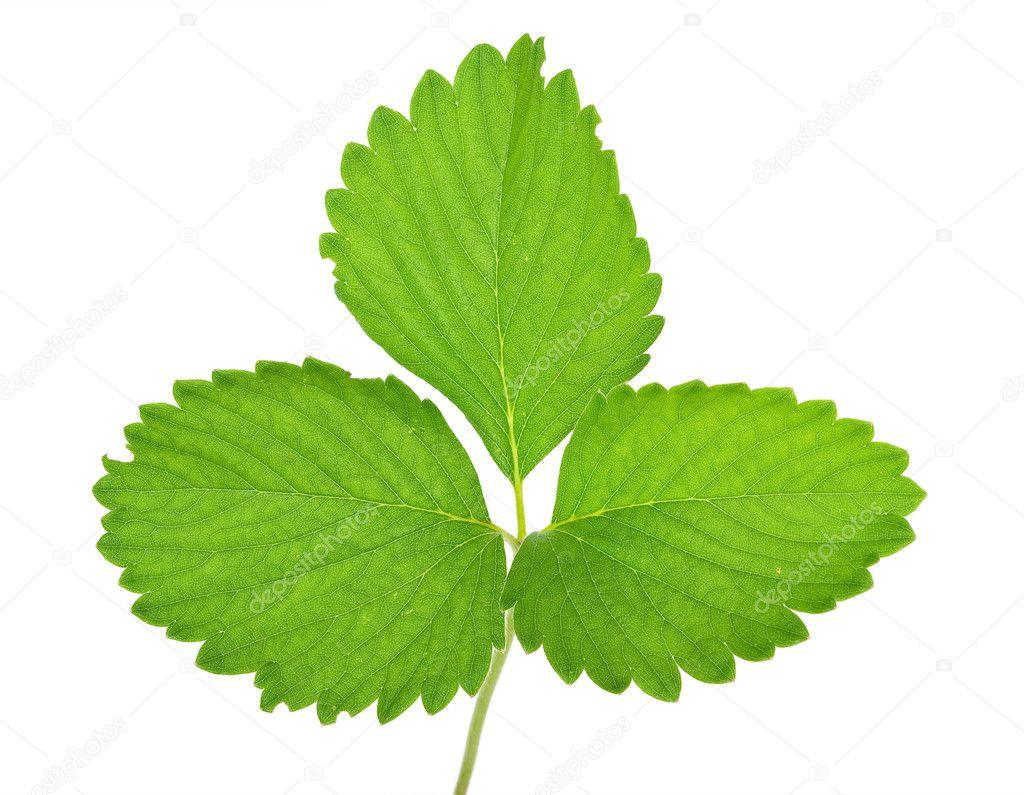Strawberry leaf: (322, 1, 686, 493), (84, 335, 491, 726), (499, 370, 930, 702)
